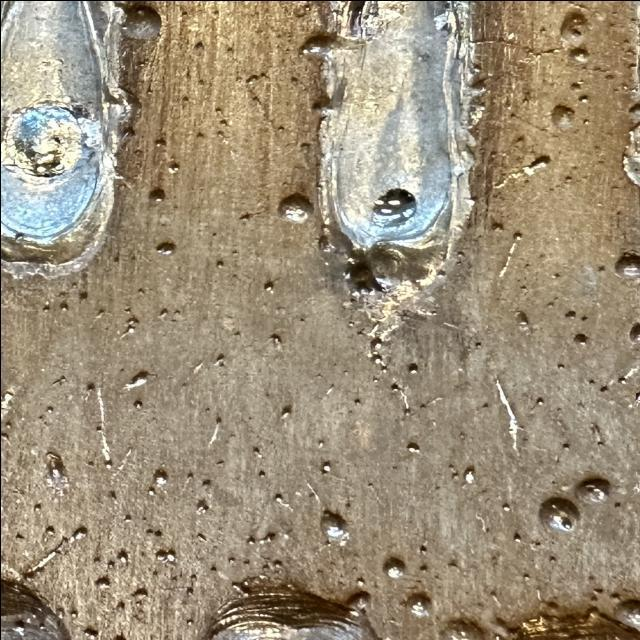Excess Reinforcement: (2, 195, 112, 276), (343, 242, 447, 295), (450, 37, 485, 175), (357, 282, 423, 341), (513, 609, 640, 639), (317, 106, 340, 231), (102, 81, 140, 144), (433, 0, 472, 59), (447, 171, 473, 245), (317, 224, 353, 262), (120, 6, 162, 38), (622, 123, 640, 185), (45, 451, 68, 495), (300, 34, 340, 59), (558, 12, 587, 46), (320, 56, 342, 100), (313, 1, 338, 35), (613, 599, 640, 630), (310, 96, 332, 115)
Spatters: (493, 155, 550, 188), (538, 498, 578, 532), (277, 193, 313, 222), (320, 510, 348, 545), (438, 620, 483, 640), (575, 479, 610, 504), (613, 254, 640, 278), (345, 591, 370, 615), (405, 594, 432, 616), (550, 105, 573, 129), (382, 558, 405, 578), (123, 371, 148, 389), (567, 47, 588, 62), (122, 316, 138, 335), (592, 424, 605, 446), (155, 241, 175, 255), (68, 527, 87, 540), (515, 311, 528, 330), (590, 422, 601, 444), (155, 550, 175, 562), (132, 588, 147, 604), (462, 466, 475, 484), (147, 188, 165, 201), (230, 582, 248, 595), (217, 119, 228, 140), (628, 323, 640, 342), (153, 469, 167, 485), (93, 576, 110, 588), (268, 334, 282, 348), (572, 332, 587, 345), (278, 406, 292, 419), (82, 628, 98, 639), (258, 532, 275, 542), (195, 499, 208, 512), (12, 620, 23, 635), (448, 464, 458, 479), (245, 74, 260, 84), (50, 376, 65, 385), (43, 525, 55, 536), (407, 442, 420, 452), (490, 221, 503, 231), (632, 478, 640, 494), (192, 361, 203, 372), (117, 550, 127, 562), (263, 531, 275, 541), (145, 529, 162, 536), (320, 461, 330, 472), (273, 494, 284, 504), (407, 362, 418, 372), (167, 162, 178, 172), (213, 354, 223, 365), (263, 281, 273, 292), (252, 446, 261, 458), (192, 41, 203, 50), (563, 310, 575, 318), (570, 82, 582, 90), (153, 138, 165, 146), (238, 212, 250, 220), (522, 92, 530, 104), (418, 544, 427, 554), (272, 559, 282, 568), (455, 251, 465, 260), (85, 382, 95, 391), (68, 609, 78, 618), (103, 459, 112, 469), (157, 309, 167, 318), (447, 562, 458, 570), (132, 400, 142, 408), (245, 536, 255, 544), (512, 232, 522, 240), (108, 491, 116, 501), (450, 469, 458, 479), (617, 376, 627, 384), (13, 532, 23, 540), (355, 578, 365, 586), (402, 408, 412, 416), (195, 131, 205, 139), (577, 95, 588, 102), (107, 560, 115, 569), (202, 479, 210, 488), (185, 586, 193, 595), (535, 396, 543, 405), (113, 634, 125, 640), (115, 602, 123, 611), (0, 431, 8, 440), (390, 384, 400, 391), (633, 392, 640, 402), (147, 487, 155, 495), (215, 260, 223, 268), (60, 302, 68, 310), (227, 556, 235, 564), (45, 406, 53, 414), (522, 572, 530, 580), (418, 564, 427, 571), (123, 514, 132, 521), (33, 503, 42, 510), (188, 574, 197, 581), (592, 588, 602, 594), (197, 533, 204, 541), (185, 472, 193, 479), (258, 470, 265, 478), (512, 533, 519, 541), (418, 402, 427, 408), (502, 503, 509, 510), (353, 398, 360, 405), (458, 432, 465, 439), (95, 426, 103, 432), (257, 470, 265, 476), (260, 72, 268, 78), (515, 136, 523, 142), (367, 482, 373, 490), (85, 460, 93, 466), (92, 556, 100, 562), (552, 272, 560, 278), (216, 417, 222, 425), (598, 386, 607, 391), (538, 27, 547, 32), (213, 107, 222, 112), (562, 443, 568, 450), (185, 619, 192, 625), (548, 556, 555, 562), (42, 304, 48, 311), (520, 285, 527, 291), (317, 441, 323, 448), (170, 576, 177, 582), (230, 250, 238, 255), (557, 363, 563, 369), (216, 460, 223, 465), (588, 379, 595, 384), (123, 307, 130, 312), (582, 119, 588, 124), (613, 502, 620, 506), (233, 331, 240, 335), (210, 566, 217, 570), (152, 571, 157, 576), (278, 126, 283, 131), (212, 232, 217, 235)
